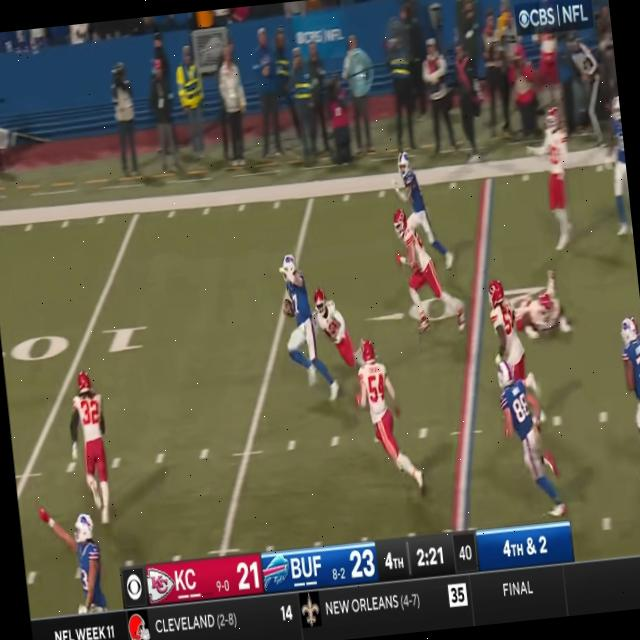Player: (496, 358, 550, 510), (354, 332, 406, 477), (276, 248, 324, 394), (70, 368, 114, 516), (394, 206, 442, 332), (537, 104, 577, 253), (616, 315, 640, 473), (70, 512, 107, 613), (517, 266, 570, 336), (486, 274, 521, 366), (312, 286, 353, 362), (396, 150, 429, 229)
Referee: (566, 31, 609, 164)
